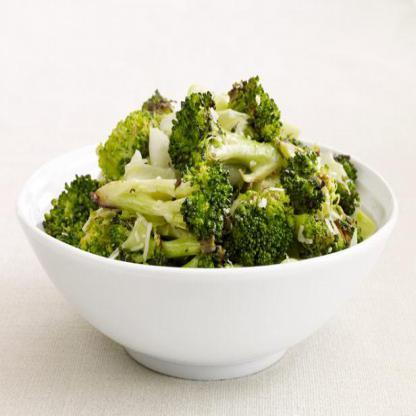broccoli: (40, 76, 372, 270)
